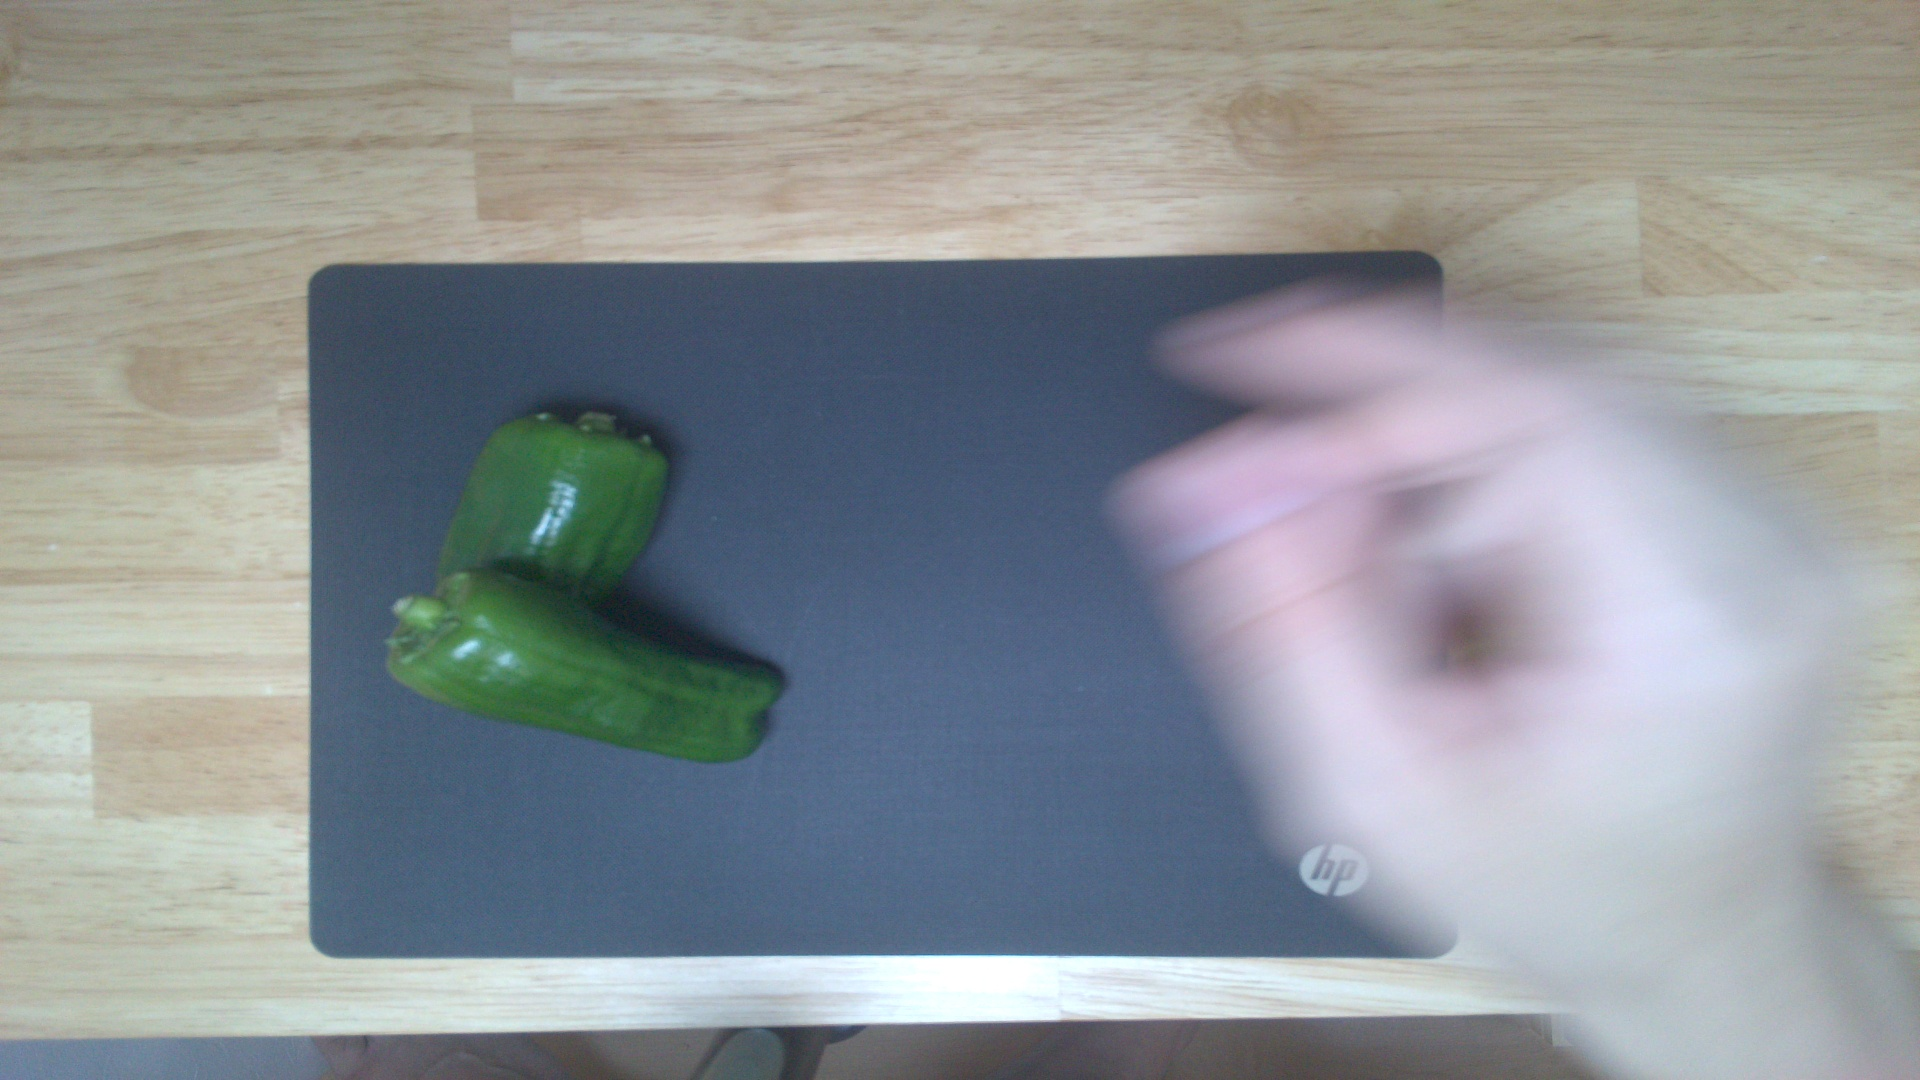Piman: (388, 570, 789, 771), (423, 407, 678, 713)
